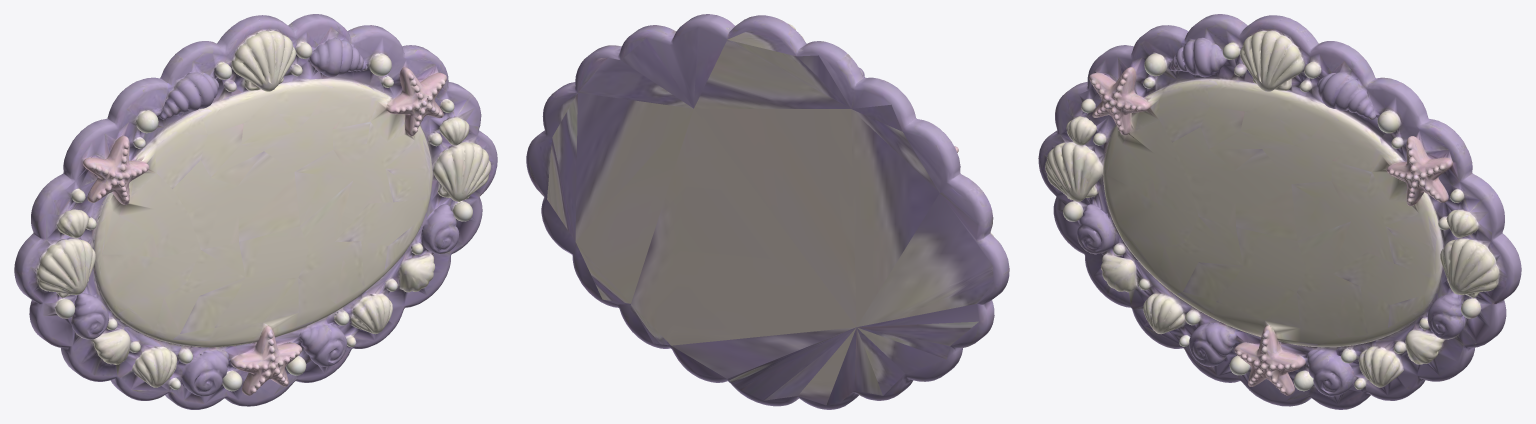
3 views of the same model, side by side, from view 1: azimuth 30°, elevation 25°; view 2: azimuth 150°, elevation 25°; view 3: azimuth 330°, elevation 25° (orthographic).
Size of the model in its own units: 1.9 by 1.46 by 0.1682.
Materials: 1 (1 with a texture image).
